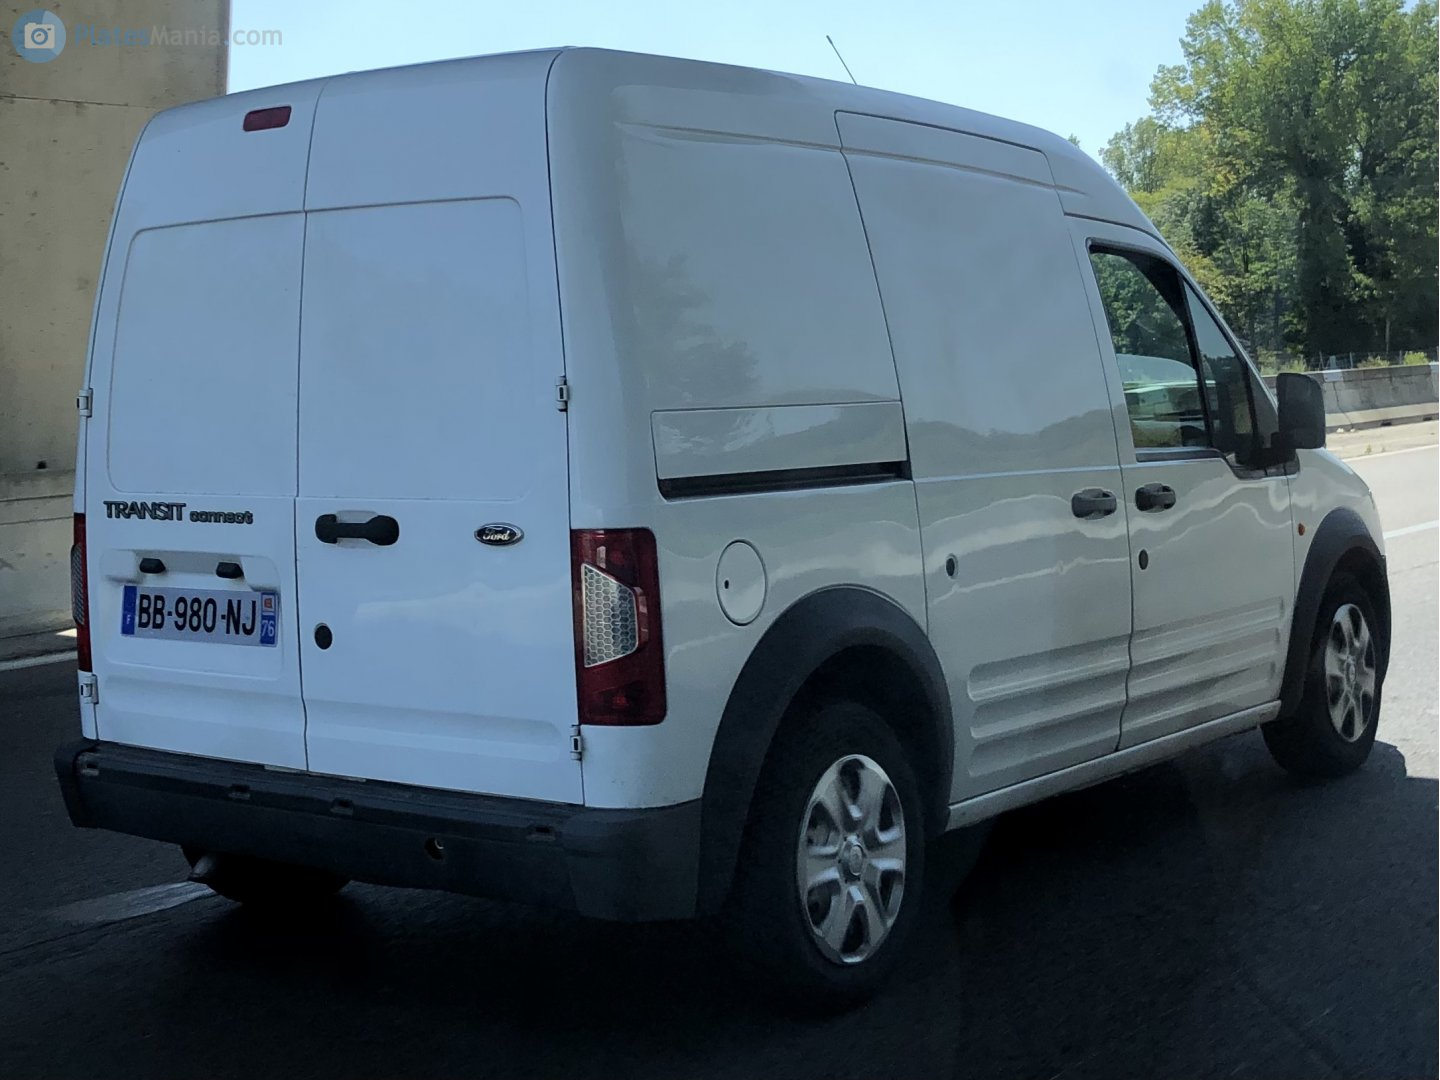licence plate: (115, 581, 280, 650)
